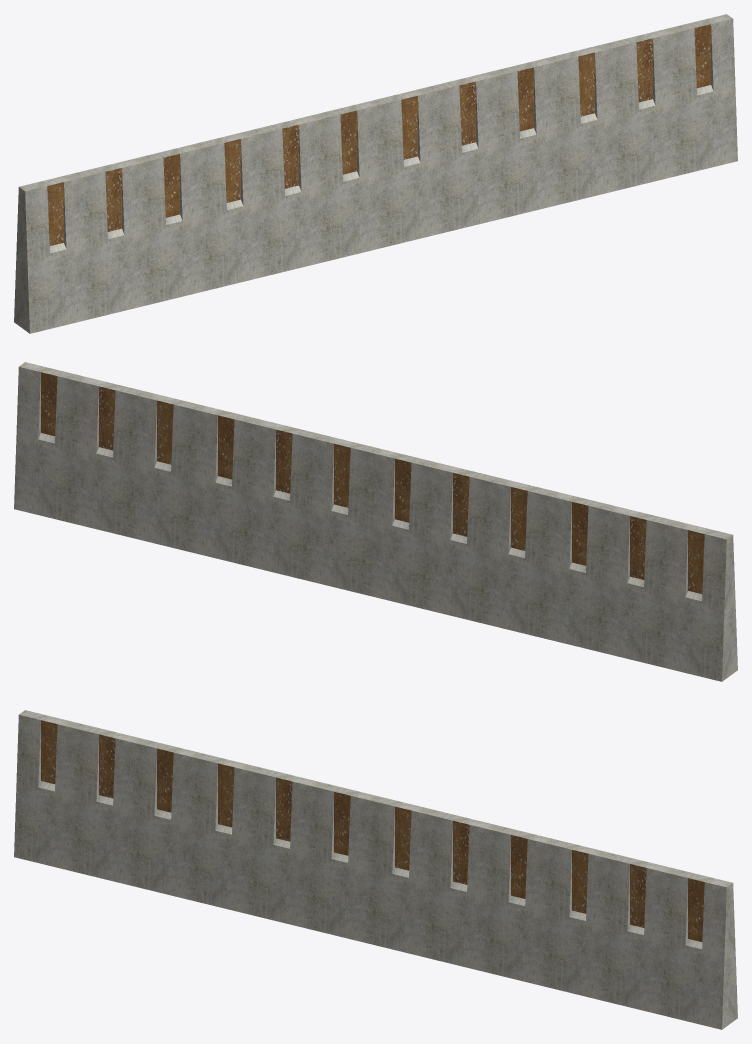
The model's file is mun_all_military_wall_weak_rebl_32_s01_l1.fbx.
3 renders of one model, top to bottom at view 1: azimuth 30°, elevation 25°; view 2: azimuth 150°, elevation 25°; view 3: azimuth 330°, elevation 25°, orthographic.
Parts seen in each view (by area): view 1: mesh_node; view 2: mesh_node; view 3: mesh_node.
Boxes of the visible parts, x1,y1,x2,y2 form: mesh_node: [14, 14, 737, 333]; mesh_node: [14, 362, 737, 681]; mesh_node: [14, 710, 737, 1029].
Bounding box in the file's own units: 32 × 6 × 1.25.
